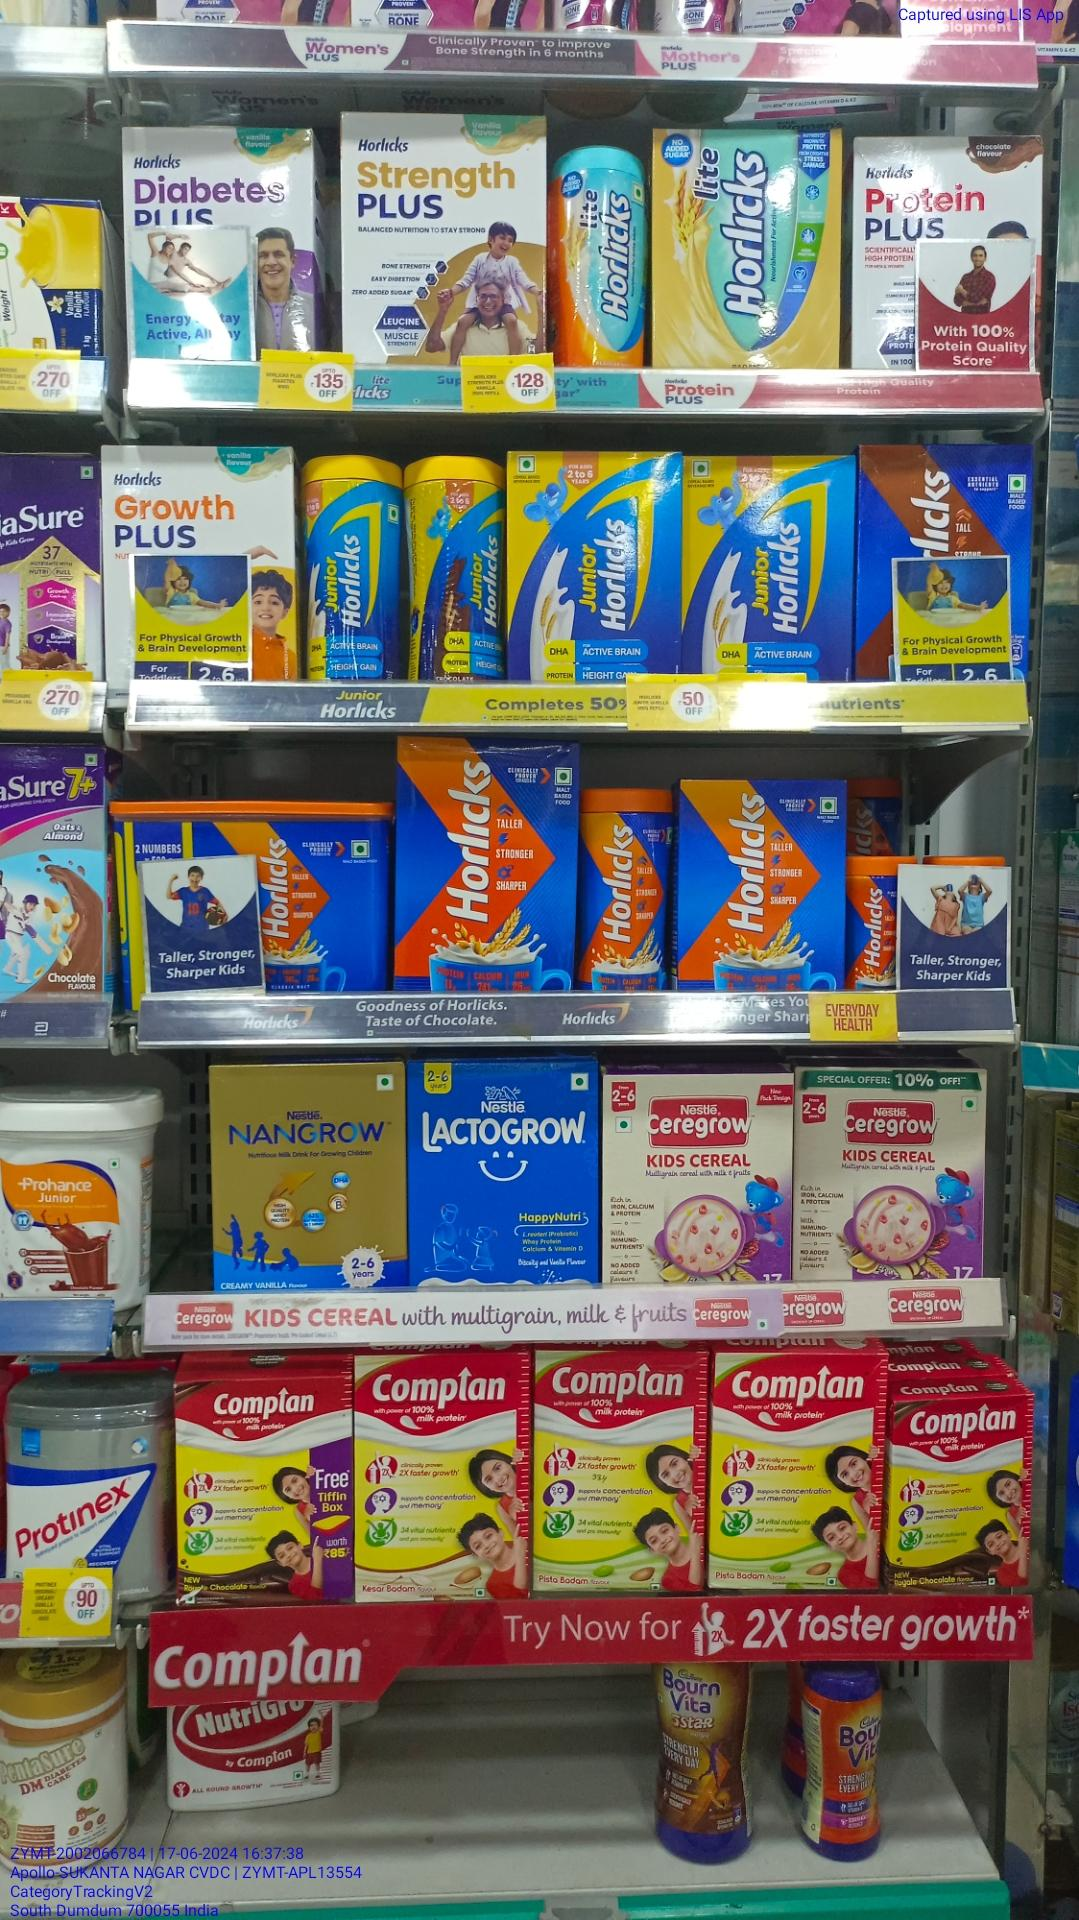BOURN_VITA_200_G_JAR: (818, 1662, 885, 1867)
BOURN_VITA_FIVE_STAR_MAGIC_500_G_JAR: (653, 1664, 751, 1861)
COMPLAN_CHOCOLATE_200_GMS_PACK: (892, 1403, 1033, 1590)
COMPLAN_CHOCOLATE_500_GMS_PACK: (175, 1379, 351, 1601)
COMPLAN_PISTA_BADAM_500_GMS_PACK: (532, 1346, 706, 1589), (355, 1354, 525, 1598), (710, 1354, 882, 1589)
HORLICKS_JUNIOR_VANILLA_500_GM_JAR: (305, 455, 402, 683)
HORLICKS_LITE_REGULAR_MALT_500_GM_JAR: (547, 144, 640, 369)
HORLICK_CLASSIC_MALT_500_G_JAR: (582, 781, 670, 988)
HORLICK_CLASSIC_MALT_500_G_PACK: (393, 735, 574, 997), (685, 778, 844, 993)
PROTINEX_ORIGINAL_400_G_JAR: (9, 1378, 169, 1580)
